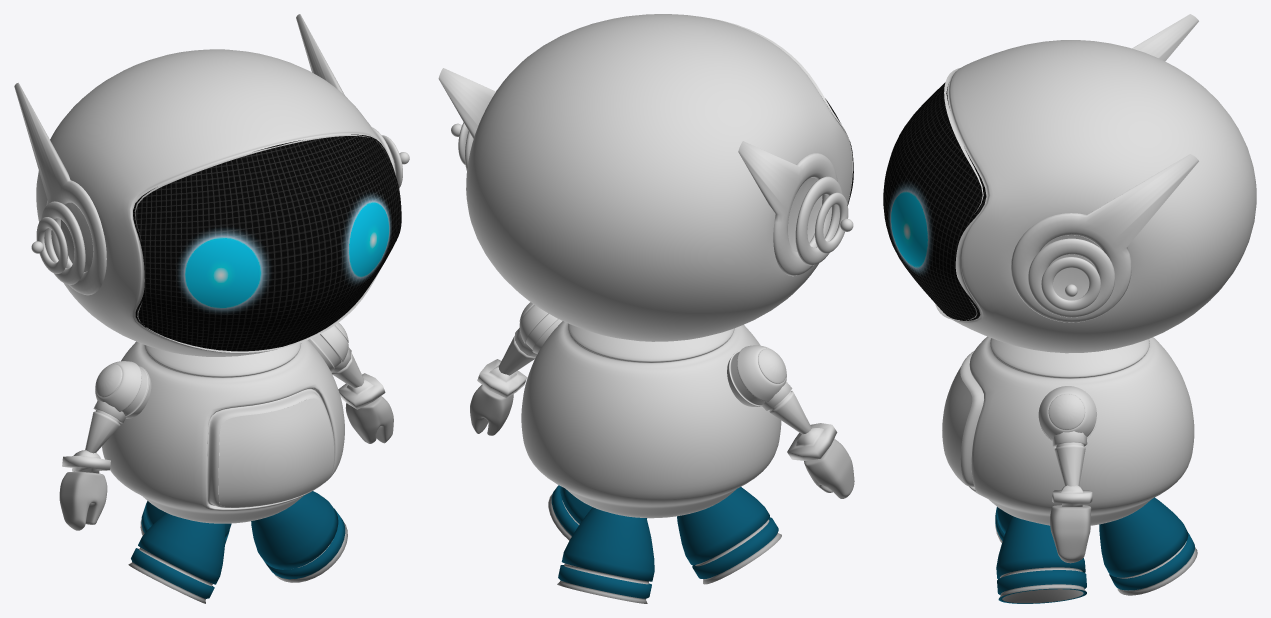
The model's file is R-UVEG2.fbx.
3 renders of one model, left to right at view 1: azimuth 30°, elevation 25°; view 2: azimuth 150°, elevation 25°; view 3: azimuth 270°, elevation 25°, orthographic. The views are drawn at different scales.
Parts seen in each view (by area): view 1: Cara.010, Cara.012, Sphere.034, Sphere.017, Turbina3.009, Turbina3.006, Torus.025, Sphere.032, PalmaIz.009, Torus.026, PalmaIz.008, Torus.027 (+7 smaller); view 2: Cara.012, Sphere.034, Turbina2.006, Turbina3.006, Torus.025, Sphere.032, Torus.026, Torus.024, PalmaIz.009, PalmaIz.008, Torus.027, Turbina3.009 (+5 smaller); view 3: Cara.012, Sphere.034, Cara.010, Torus.024, Turbina2.006, Turbina3.009, Torus.026, Sphere.033, Sphere.017, PalmaIz.008, Torus.027, Cylinder.013 (+2 smaller).
Part boxes in pixels (x1,y1,x2,y2): Cara.010: (133, 134, 401, 351); Cara.012: (36, 49, 388, 356); Sphere.034: (102, 340, 344, 523); Sphere.017: (218, 398, 333, 507); Turbina3.009: (251, 491, 347, 582); Turbina3.006: (128, 512, 225, 603); Torus.025: (14, 82, 106, 295); Sphere.032: (95, 361, 151, 418); PalmaIz.009: (59, 471, 107, 530); Torus.026: (41, 127, 395, 284); PalmaIz.008: (345, 396, 393, 443); Torus.027: (36, 135, 402, 273); Cara.012: (466, 14, 852, 341); Sphere.034: (521, 321, 781, 518); Turbina2.006: (557, 507, 654, 603); Turbina3.006: (677, 487, 781, 584); Torus.025: (738, 141, 837, 276); Sphere.032: (727, 345, 786, 406); Torus.026: (465, 131, 842, 265); Torus.024: (438, 68, 496, 138); PalmaIz.009: (804, 439, 854, 498); PalmaIz.008: (470, 385, 513, 435); Torus.027: (458, 122, 848, 253); Turbina3.009: (548, 485, 647, 540); Cara.012: (935, 40, 1256, 353); Sphere.034: (960, 336, 1194, 525); Cara.010: (883, 82, 986, 320); Torus.024: (1011, 154, 1198, 322); Turbina2.006: (1099, 497, 1197, 595); Turbina3.009: (996, 516, 1086, 603); Torus.026: (1028, 238, 1115, 317); Sphere.033: (1038, 386, 1097, 440); Sphere.017: (942, 366, 972, 483); PalmaIz.008: (1050, 505, 1091, 563); Torus.027: (1041, 257, 1100, 311); Cylinder.013: (1052, 431, 1087, 486).
Bounding box in the file's own units: 785 × 1021 × 662.
